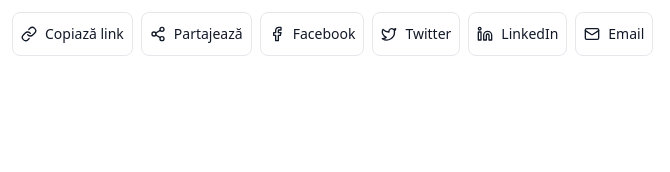
Scenario: ShareButtons › shows success state when link is copied
The width and height of the screenshot is (670, 172).
Click the button with aria-label "Copiază link-ul".
click(72, 34)  # box [12, 12, 133, 56]
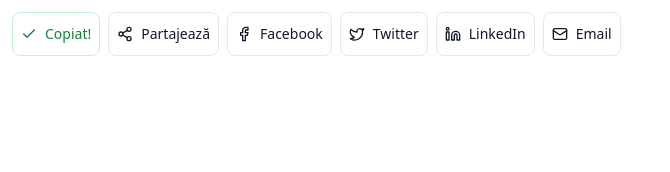
expect the text "Copiat!" is shown: met, box [45, 24, 91, 44]
